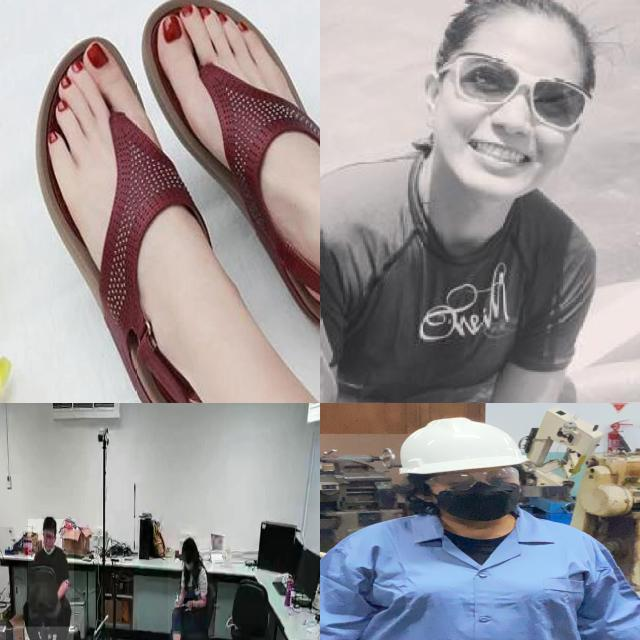Sandals: (22, 0, 320, 403)
face_mask: (425, 468, 529, 521)
face_nomask: (43, 528, 55, 550)
glasses: (438, 54, 598, 134), (419, 466, 528, 492)
hand_noglove: (173, 593, 183, 608), (184, 598, 194, 610)
head_helmet: (394, 411, 532, 477)
head_nohelmet: (432, 0, 615, 96), (182, 536, 198, 552), (42, 515, 56, 529)
person: (320, 0, 623, 403), (320, 414, 640, 640), (320, 0, 403, 403), (27, 519, 74, 640), (168, 538, 213, 640)
